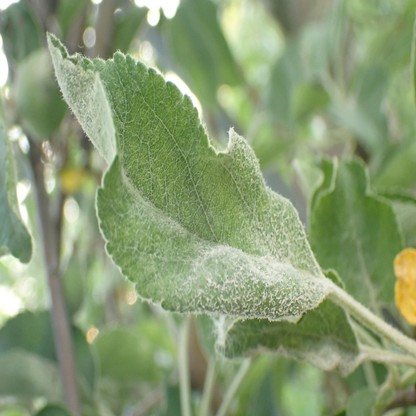powdery_mildew: (46, 31, 326, 322), (213, 317, 361, 375)
